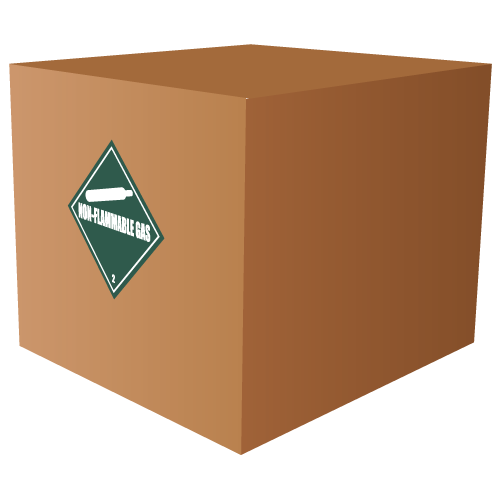NonFlammableGas: (69, 141, 163, 300)
